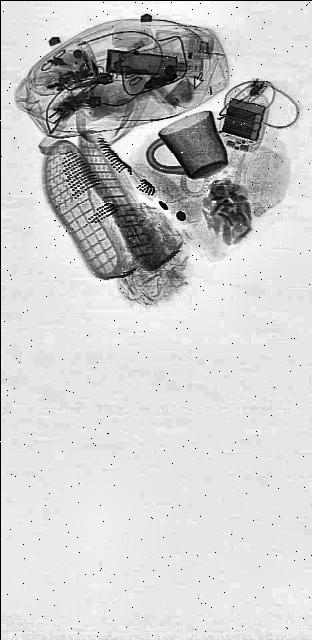Scissors: (39, 38, 67, 92)
